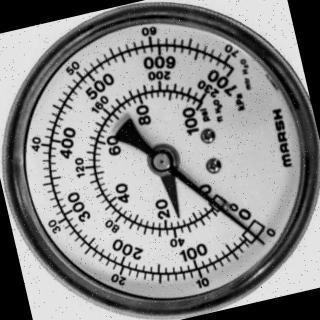gauge: (0, 0, 320, 320), (228, 198, 281, 254), (206, 44, 254, 94), (147, 146, 179, 174), (248, 228, 269, 251), (169, 202, 186, 223)
